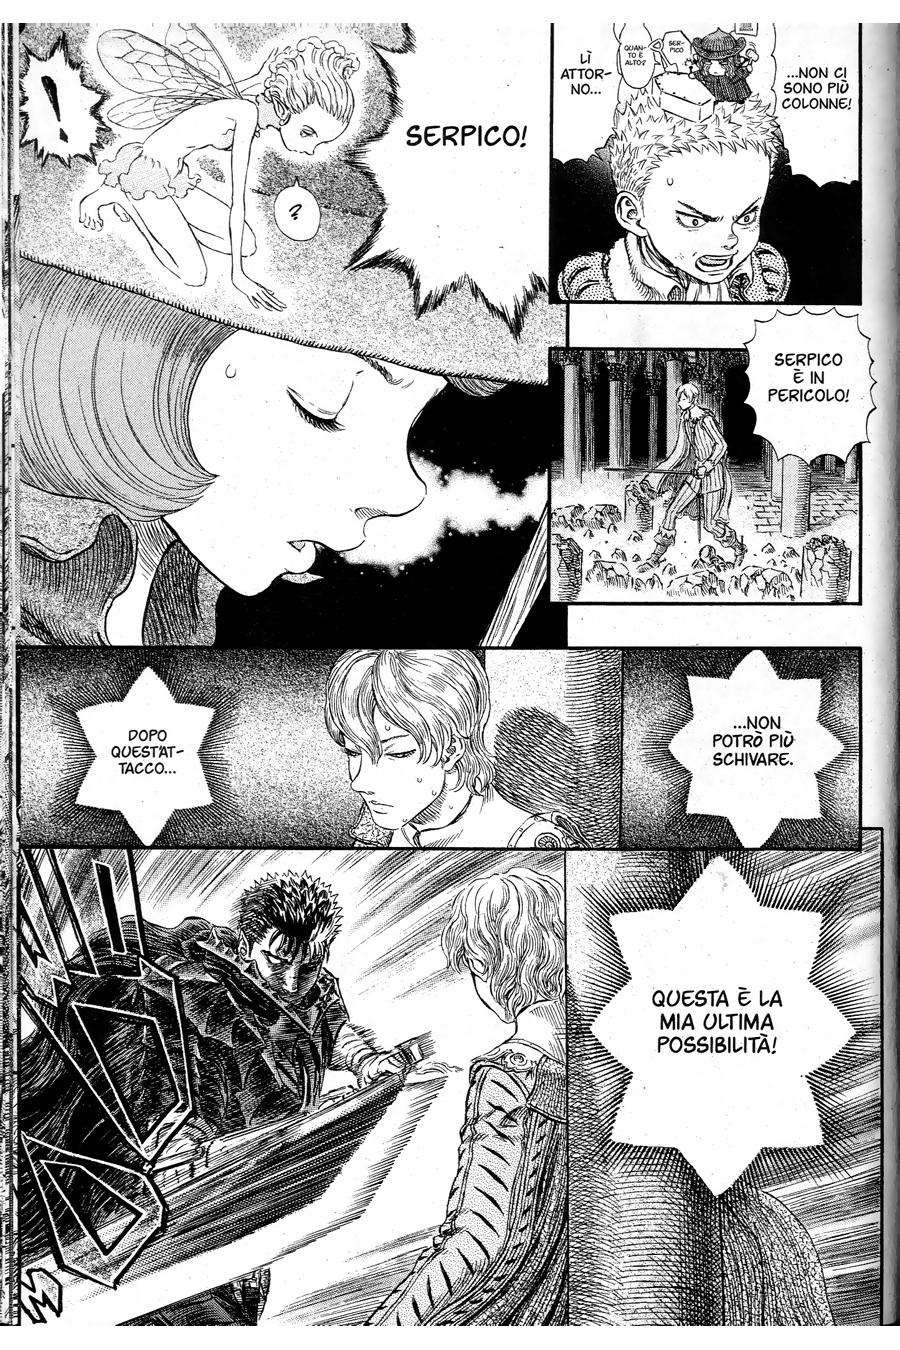Baloon: (591, 852, 863, 1197), (349, 15, 551, 348), (665, 648, 846, 842), (71, 664, 214, 842), (746, 309, 881, 466), (773, 19, 857, 193), (14, 36, 116, 162), (553, 19, 618, 164), (267, 181, 330, 238), (616, 15, 655, 85), (663, 30, 698, 68)
Vignetta: (14, 846, 883, 1330), (4, 19, 553, 642), (20, 650, 857, 848), (553, 19, 861, 305), (546, 350, 865, 609)
